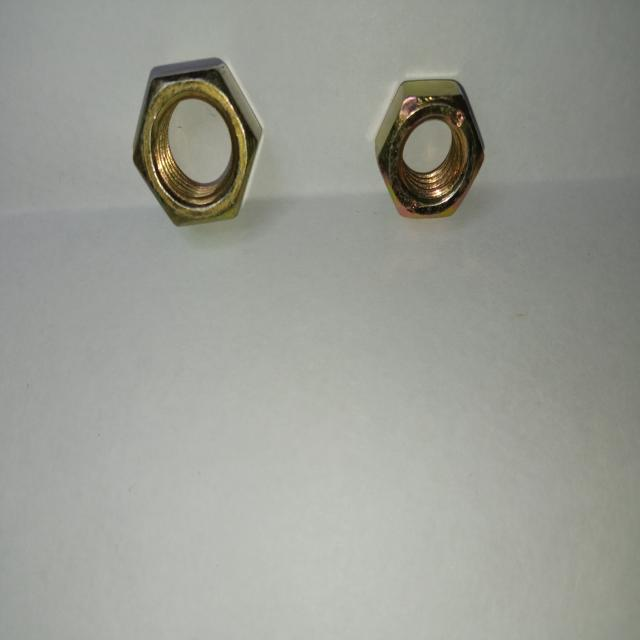m10: (130, 62, 266, 240)
m8: (374, 73, 486, 218)
